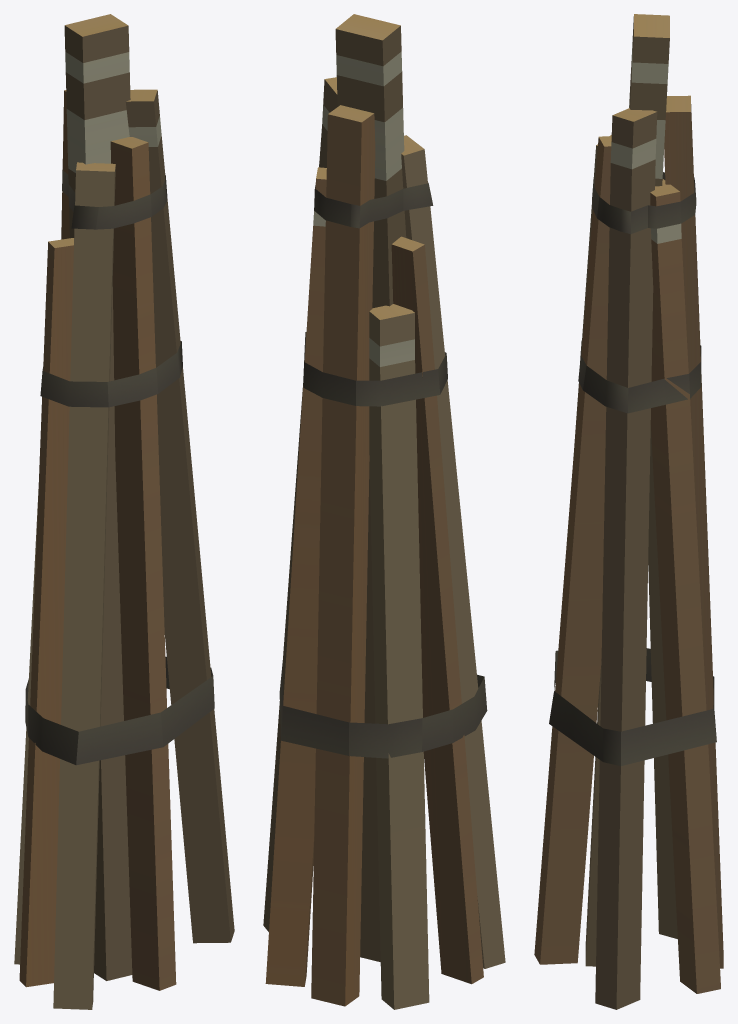
File: Pole_5.fbx
The picture shows the model from 3 angles, left to right: view 1: azimuth 30°, elevation 25°; view 2: azimuth 150°, elevation 25°; view 3: azimuth 270°, elevation 25°; orthographic projection. The views are drawn at different scales.
Parts seen in each view (by area): view 1: polySurface9784; view 2: polySurface9784; view 3: polySurface9784.
Part boxes in pixels (x1,y1,x2,y2): polySurface9784: (14,14,234,1009); polySurface9784: (263,14,505,1009); polySurface9784: (534,14,723,1009).
Size of the model in its own units: 115 by 482 by 88.55.
